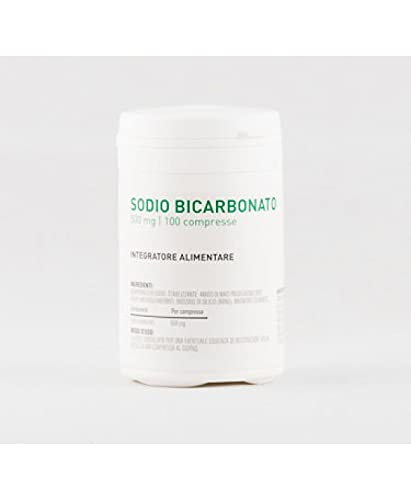09: (170, 217, 180, 225)
ALIMENTARE: (181, 242, 233, 270)
SODIO: (131, 198, 169, 213)
